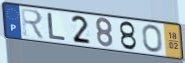2: (70, 15, 92, 47)
8: (95, 17, 114, 49), (119, 21, 138, 52)
L: (47, 12, 67, 42)
O: (141, 24, 164, 54)
R: (20, 7, 46, 41)
